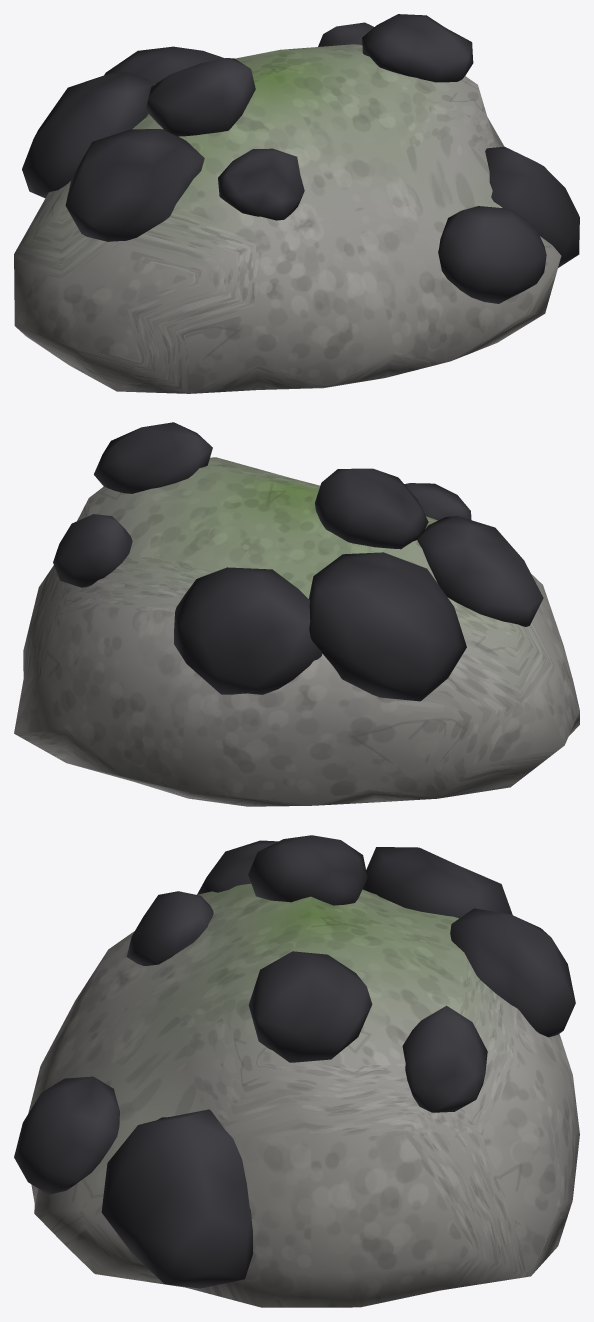
File: ore_coal_boulder.glb
The picture shows the model from 3 angles, top to bottom: view 1: azimuth 30°, elevation 25°; view 2: azimuth 150°, elevation 25°; view 3: azimuth 270°, elevation 25°; orthographic projection. The views are drawn at different scales.
Visible parts, largest first — view 1: ore_coal_stone, ore_coal; view 2: ore_coal_stone, ore_coal; view 3: ore_coal_stone, ore_coal.
Boxes of the visible parts, x1,y1,x2,y2 form: ore_coal_stone: (14, 44, 561, 393); ore_coal: (22, 14, 579, 303); ore_coal_stone: (14, 457, 579, 806); ore_coal: (53, 422, 543, 701); ore_coal_stone: (28, 883, 579, 1307); ore_coal: (14, 835, 575, 1288).
Bounding box in the file's own units: 2.35 × 1.14 × 1.89.
2 materials, 1 textured.
